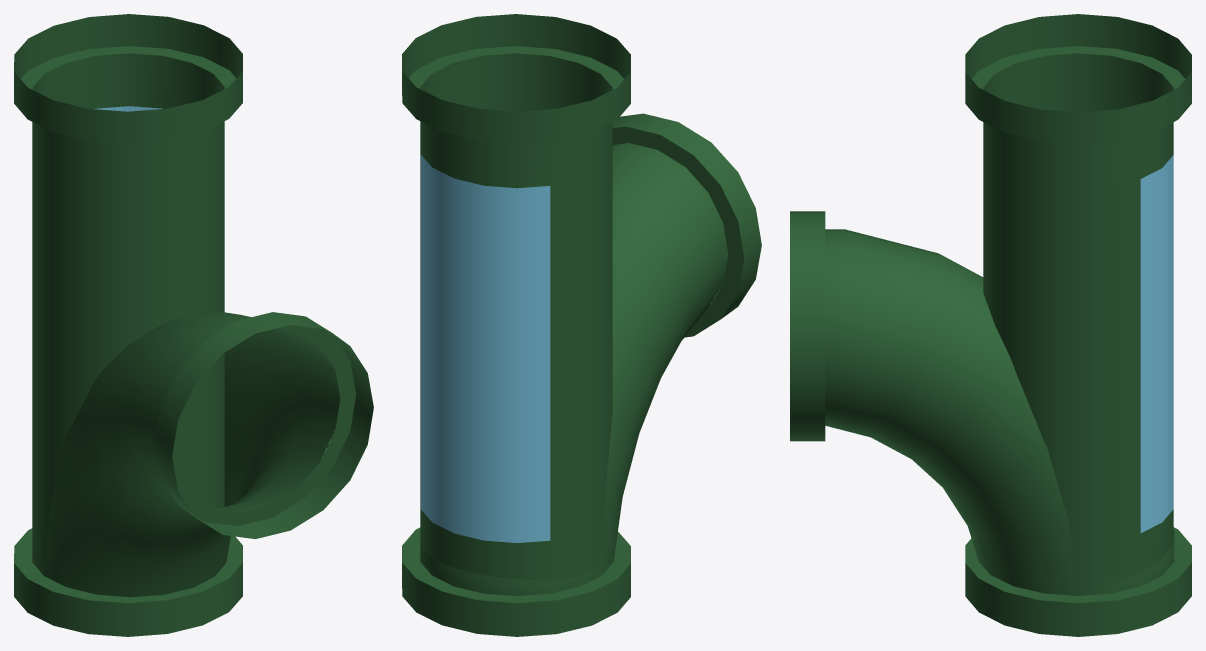
The model's file is PRUEBA TUBERIAS 2.fbx.
3 views of the same model, side by side, from view 1: azimuth 30°, elevation 25°; view 2: azimuth 150°, elevation 25°; view 3: azimuth 270°, elevation 25° (orthographic).
Visible parts, largest first — view 1: Object007, Q; view 2: Object007, Q; view 3: Object007, Q.
Boxes of the visible parts, <box> form: Object007: <box>14,14,242,635</box>; Q: <box>14,310,373,636</box>; Object007: <box>402,14,630,635</box>; Q: <box>402,113,761,636</box>; Object007: <box>965,14,1191,635</box>; Q: <box>790,211,1191,636</box>.
Size of the model in its own units: 0.4035 by 1 by 0.6964.
